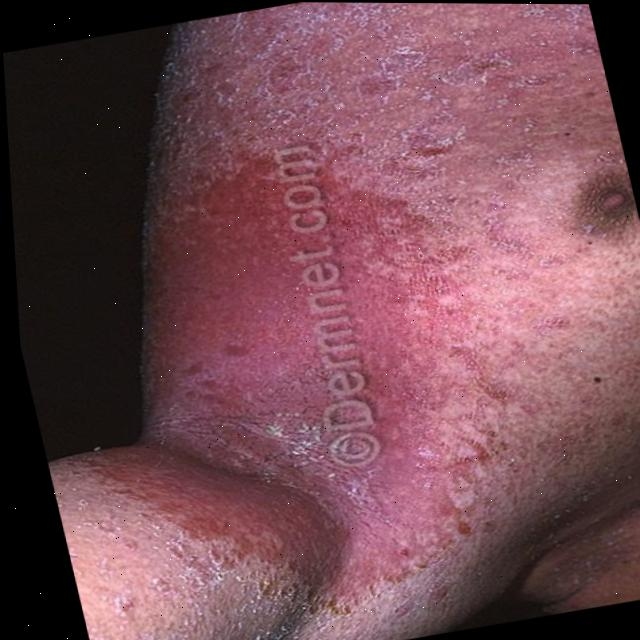Eczema: (0, 0, 622, 605)
